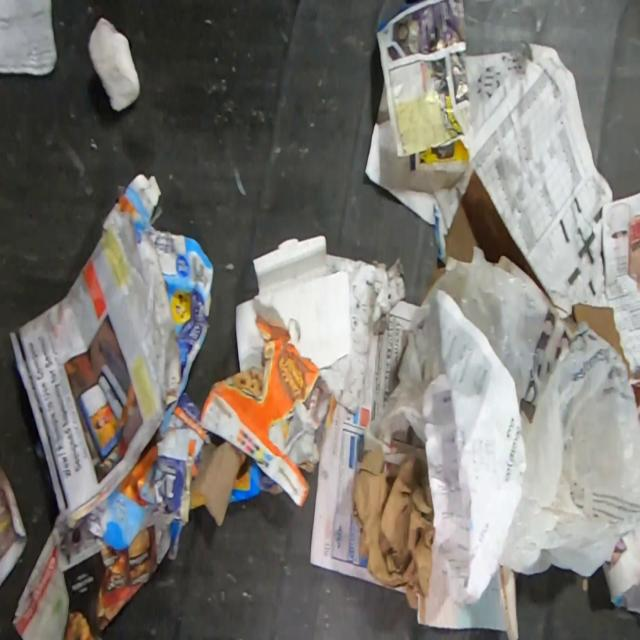cardboard: (199, 315, 320, 506), (116, 172, 214, 402), (443, 169, 552, 303), (352, 442, 434, 609), (86, 409, 171, 550), (559, 303, 636, 378), (190, 441, 252, 527), (228, 457, 283, 502)
soft_plastic: (361, 245, 640, 576)
